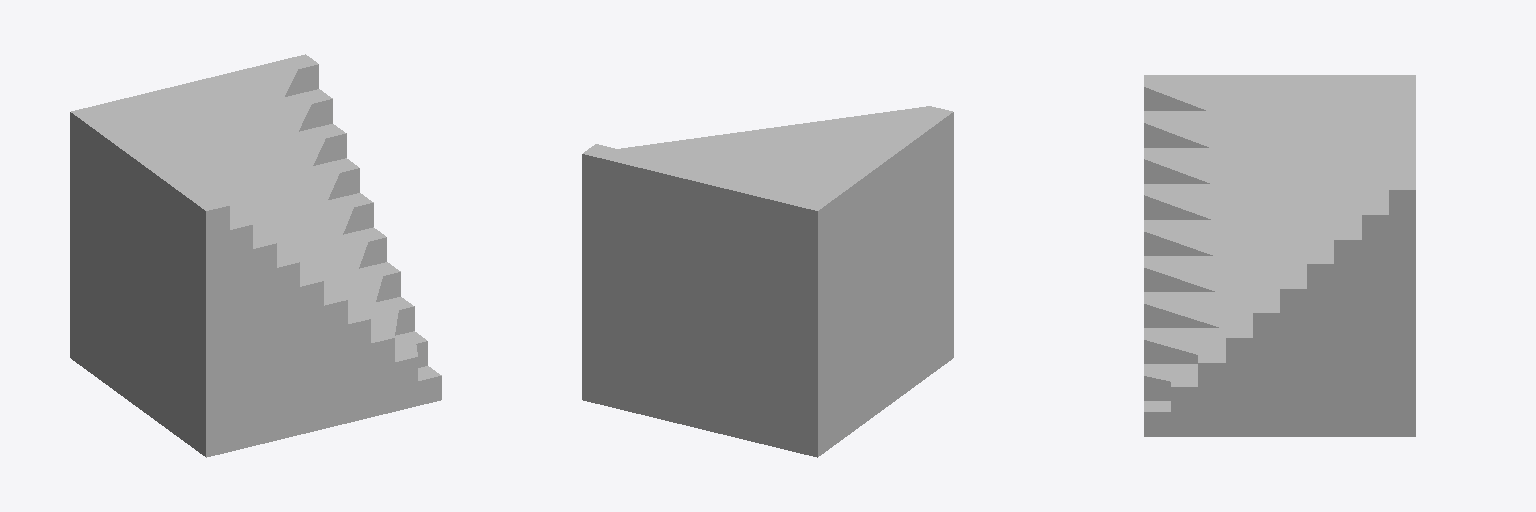
Rendered from Inner_Corner_Stair.obj.
The picture shows the model from 3 angles: view 1: azimuth 30°, elevation 25°; view 2: azimuth 150°, elevation 25°; view 3: azimuth 270°, elevation 25°; orthographic projection.
Parts seen in each view (by area): view 1: Inner_Corner_stair_Cube.012; view 2: Inner_Corner_stair_Cube.012; view 3: Inner_Corner_stair_Cube.012.
Boxes of the visible parts, <box> form: Inner_Corner_stair_Cube.012: <box>70,54,441,457</box>; Inner_Corner_stair_Cube.012: <box>582,106,953,457</box>; Inner_Corner_stair_Cube.012: <box>1144,75,1415,436</box>.
Bounding box in the file's own units: 1 × 1 × 1.